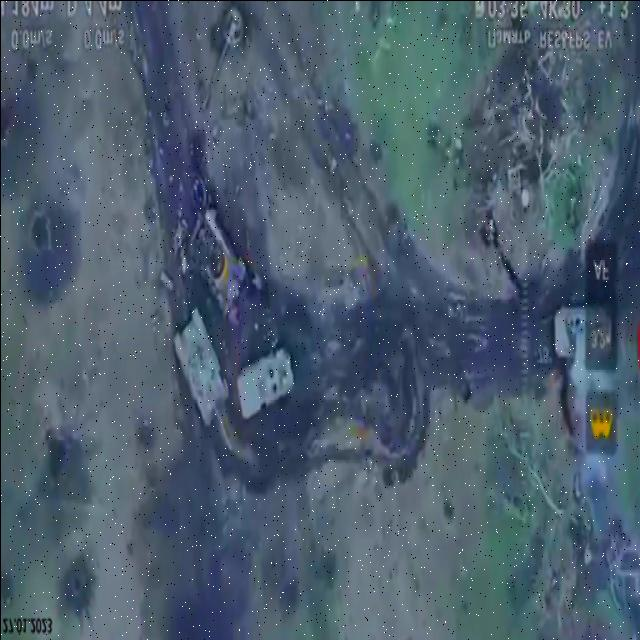APC-IFV: (234, 340, 290, 422), (550, 302, 609, 364)
TANK: (170, 300, 234, 456)
